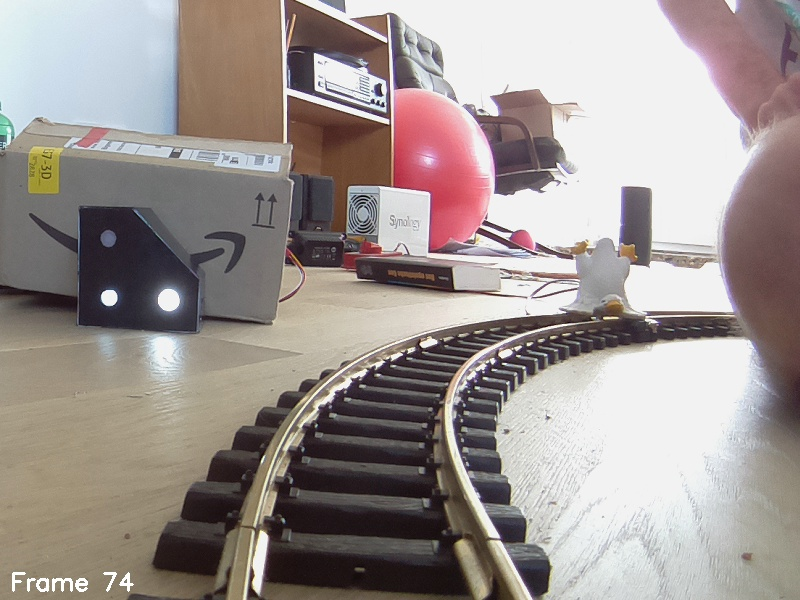Halt: (79, 207, 201, 334)
